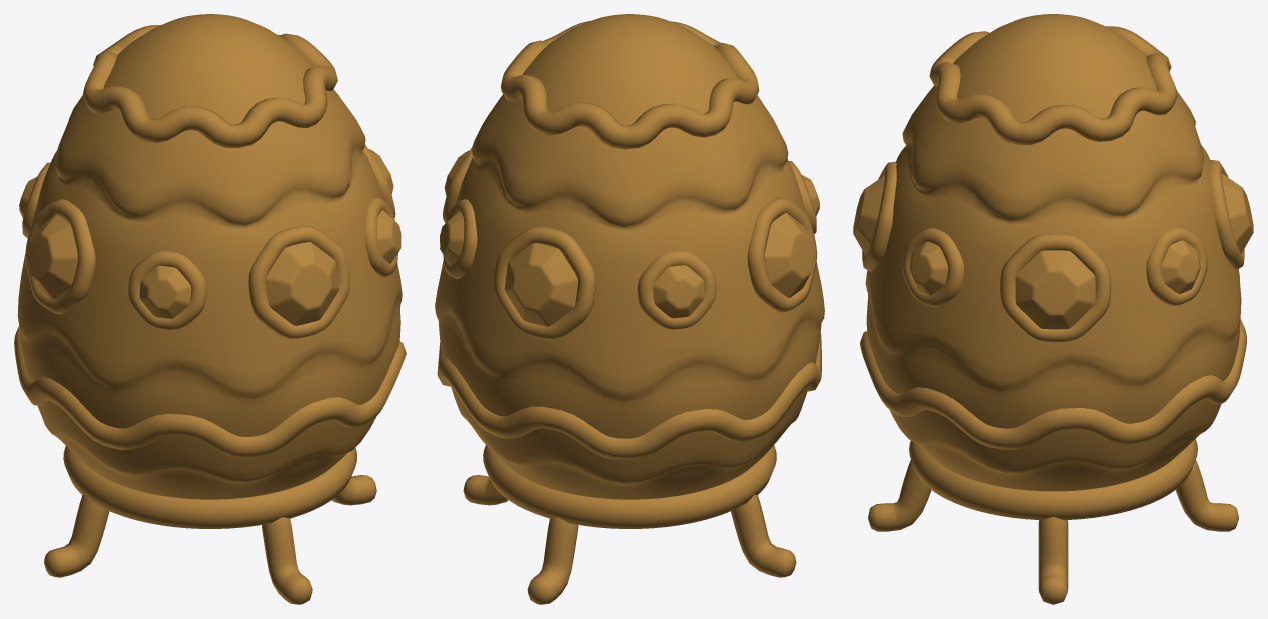
File: obj_treasure_01.fbx
3 renders of one model, left to right at view 1: azimuth 30°, elevation 25°; view 2: azimuth 150°, elevation 25°; view 3: azimuth 270°, elevation 25°, orthographic.
Visible parts, largest first — view 1: Sphere.005, Cube.048, Cube.052, Cube.034, Cube.042, Cube.046, Cube.036; view 2: Sphere.005, Cube.048, Cube.052, Cube.040, Cube.042, Cube.049, Cube.050; view 3: Sphere.005, Cube.048, Cube.052, Cube.038, Cube.036, Cube.050, Cube.040, Cube.034.
Part boxes in pixels (x1=…): Sphere.005: x1=17, y1=14, x2=402, y2=499; Cube.048: x1=14, y1=25, x2=406, y2=458; Cube.052: x1=44, y1=446, x2=376, y2=604; Cube.034: x1=266, y1=242, x2=339, y2=325; Cube.042: x1=27, y1=214, x2=77, y2=299; Cube.046: x1=139, y1=266, x2=191, y2=318; Cube.036: x1=377, y1=210, x2=401, y2=263; Sphere.005: x1=435, y1=14, x2=824, y2=499; Cube.048: x1=437, y1=21, x2=821, y2=459; Cube.052: x1=463, y1=445, x2=796, y2=604; Cube.040: x1=504, y1=243, x2=577, y2=326; Cube.042: x1=764, y1=213, x2=815, y2=297; Cube.049: x1=653, y1=265, x2=704, y2=318; Cube.050: x1=440, y1=212, x2=464, y2=265; Sphere.005: x1=865, y1=14, x2=1241, y2=491; Cube.048: x1=860, y1=26, x2=1246, y2=449; Cube.052: x1=868, y1=439, x2=1238, y2=604; Cube.038: x1=1015, y1=250, x2=1095, y2=329; Cube.036: x1=909, y1=241, x2=948, y2=295; Cube.050: x1=1161, y1=240, x2=1200, y2=293; Cube.040: x1=1222, y1=173, x2=1253, y2=253; Cube.034: x1=853, y1=175, x2=884, y2=255.
Size of the model in its own units: 4.34 by 6.07 by 4.34.
